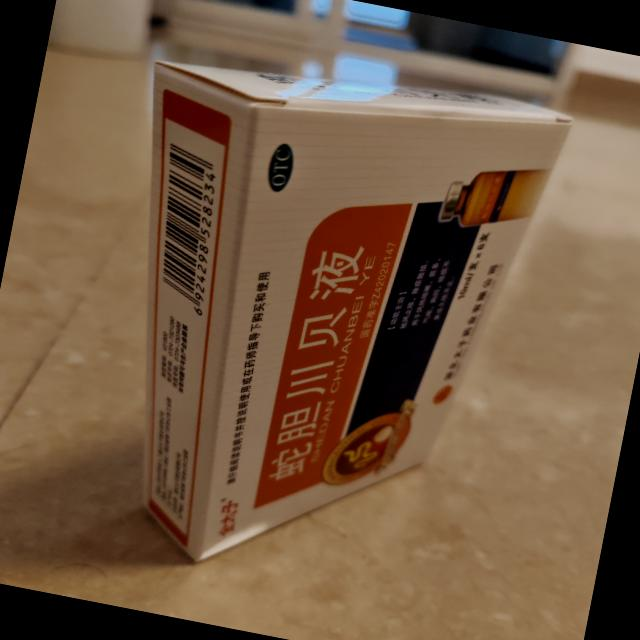box: (55, 26, 588, 624)
